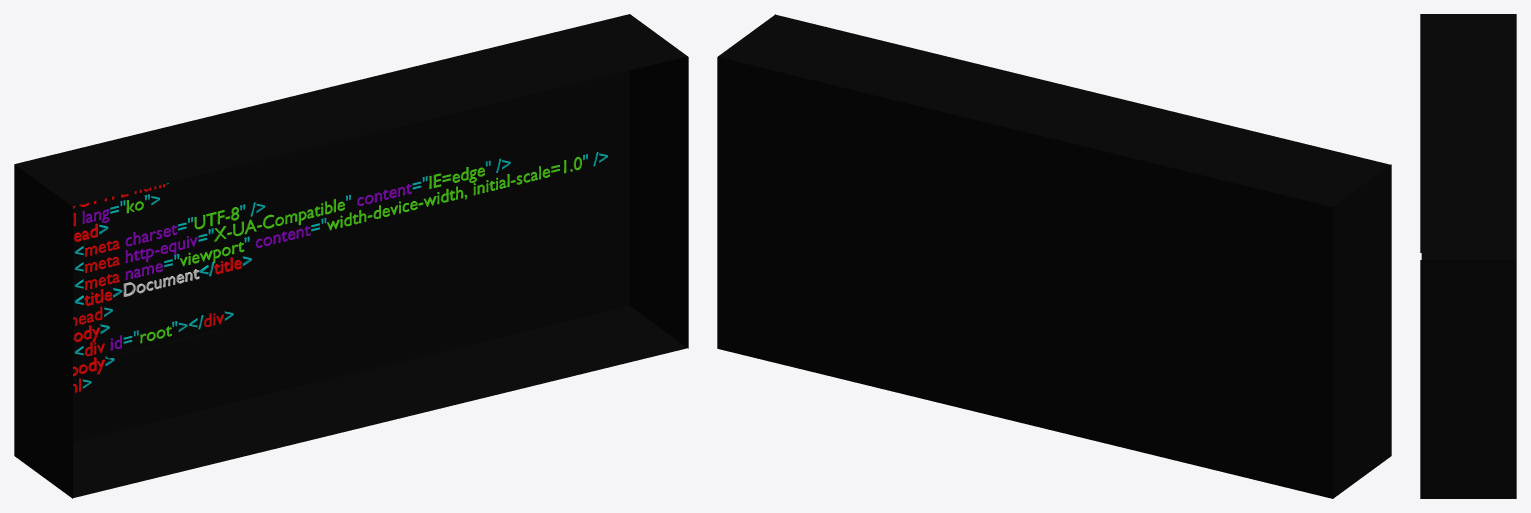
The picture shows the model from 3 angles, left to right: view 1: azimuth 30°, elevation 25°; view 2: azimuth 150°, elevation 25°; view 3: azimuth 270°, elevation 25°; orthographic projection. The views are drawn at different scales.
Parts seen in each view (by area): view 1: 평면.001, 텍스트.030, 텍스트.037; view 2: 평면.001; view 3: 평면.001.
Boxes of the visible parts, x1,y1,x2,y2 form: 평면.001: (14,14,688,498); 텍스트.030: (327,157,581,230); 텍스트.037: (214,199,344,241); 평면.001: (717,14,1391,498); 평면.001: (1420,14,1516,498).
Size of the model in its own units: 619 by 281 by 102.
